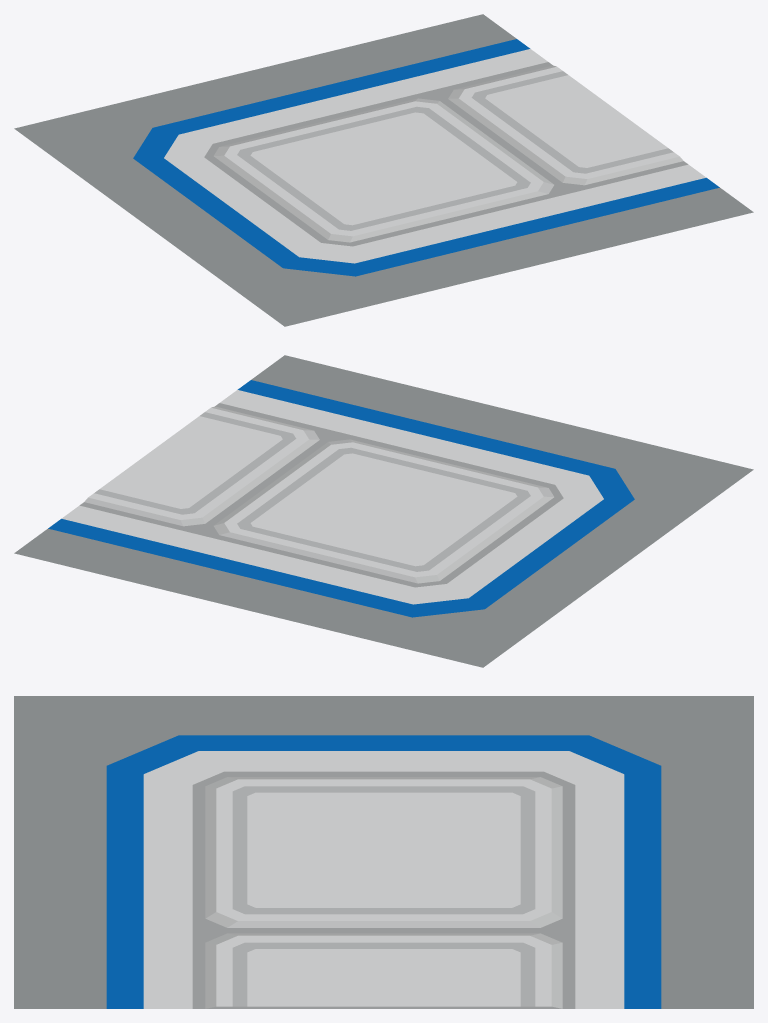
Rendered from Floor_type_A_021.fbx.
The picture shows the model from 3 angles, top to bottom: view 1: azimuth 30°, elevation 25°; view 2: azimuth 150°, elevation 25°; view 3: azimuth 270°, elevation 25°; orthographic projection. The views are drawn at different scales.
Visible parts, largest first — view 1: Floor_type_A_021; view 2: Floor_type_A_021; view 3: Floor_type_A_021.
Part boxes in pixels (<box>): Floor_type_A_021: <box>14,14,753,326</box>; Floor_type_A_021: <box>14,355,753,667</box>; Floor_type_A_021: <box>14,696,753,1008</box>.
Size of the model in its own units: 400 by 400 by 1.34.
